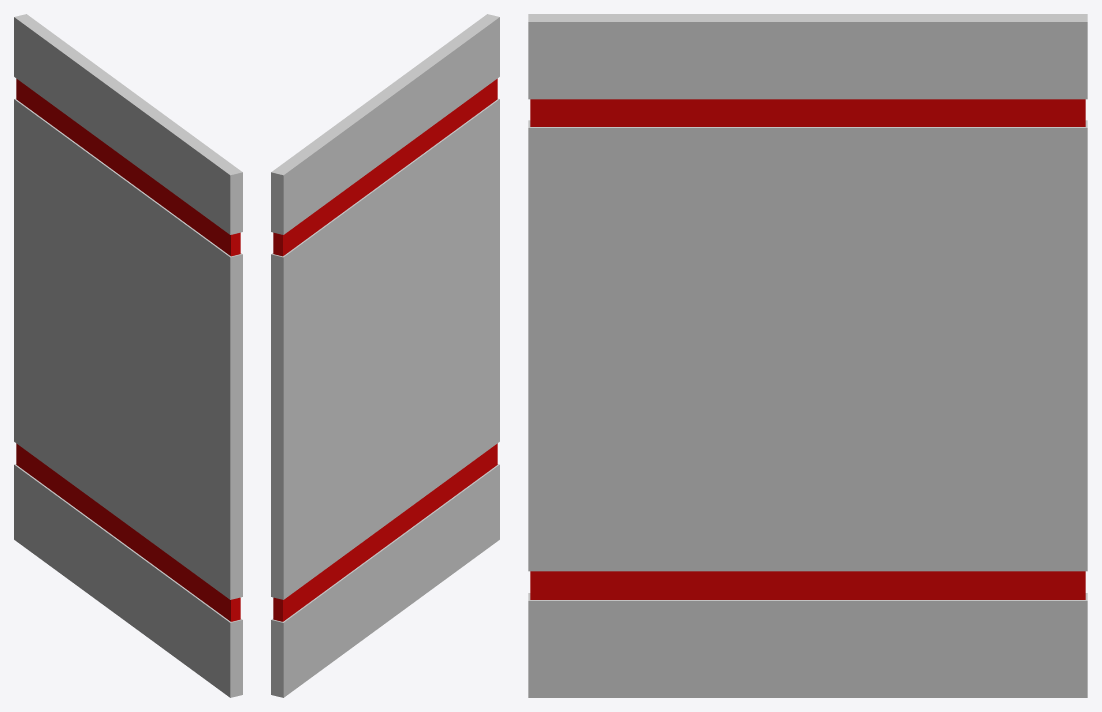
Rendered from Wall03_LP_FBX.fbx.
3 views of the same model, side by side, from view 1: azimuth 30°, elevation 25°; view 2: azimuth 150°, elevation 25°; view 3: azimuth 270°, elevation 25° (orthographic). The views are drawn at different scales.
Visible parts, largest first — view 1: pCube20; view 2: pCube20; view 3: pCube20.
Boxes of the visible parts, x1=… form: pCube20: x1=14, y1=14, x2=242, y2=697; pCube20: x1=271, y1=14, x2=499, y2=697; pCube20: x1=528, y1=14, x2=1087, y2=697.
Bounding box in the file's own units: 10 × 400 × 300.
